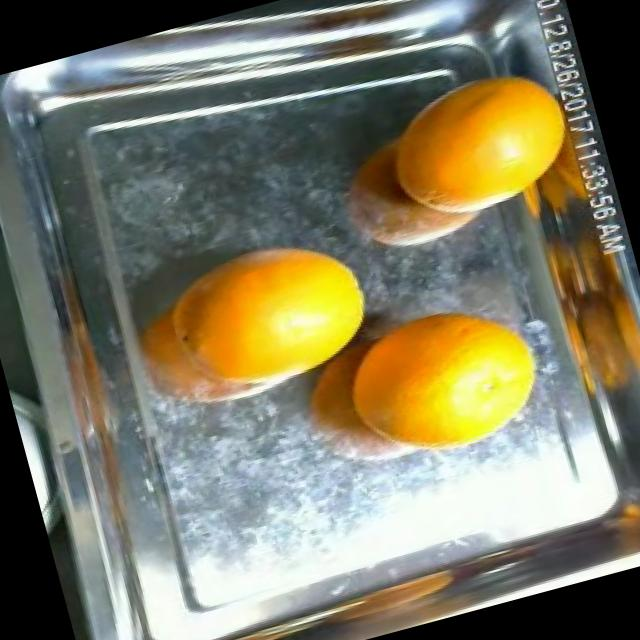Fruit: (327, 272, 575, 490), (348, 41, 604, 248), (165, 210, 393, 411)
